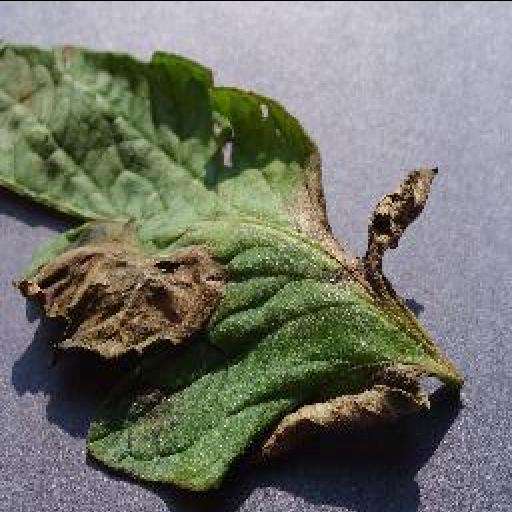disease_tomato: (0, 40, 456, 492)
